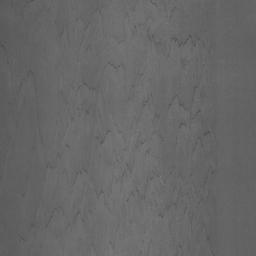Silk spot: (0, 0, 217, 256), (0, 41, 38, 104), (87, 241, 115, 256)
